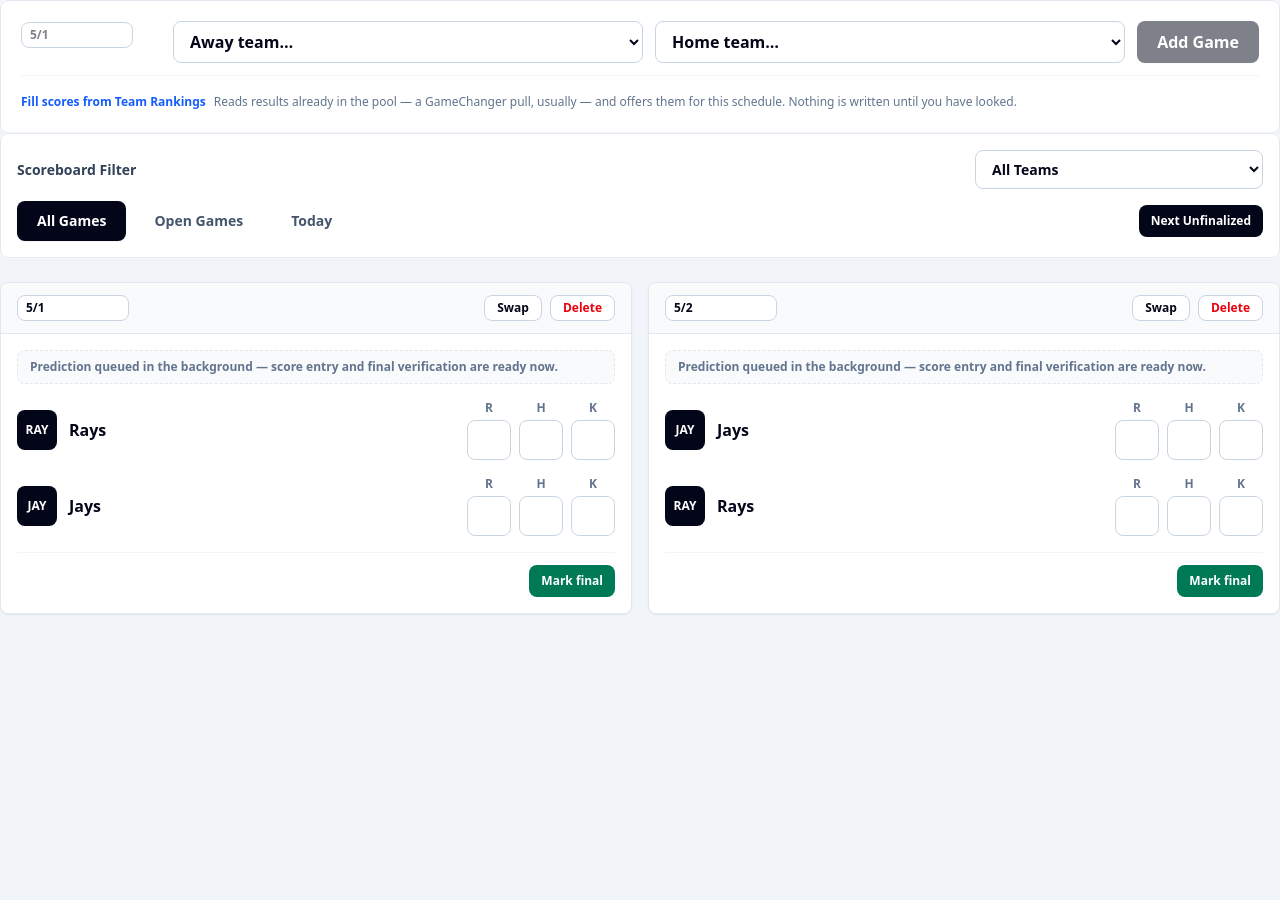
today › is the day the button is pressed, however long the page has been open
The image size is (1280, 900).
Click the button "Today".
click(312, 221)  # box [271,201,352,241]
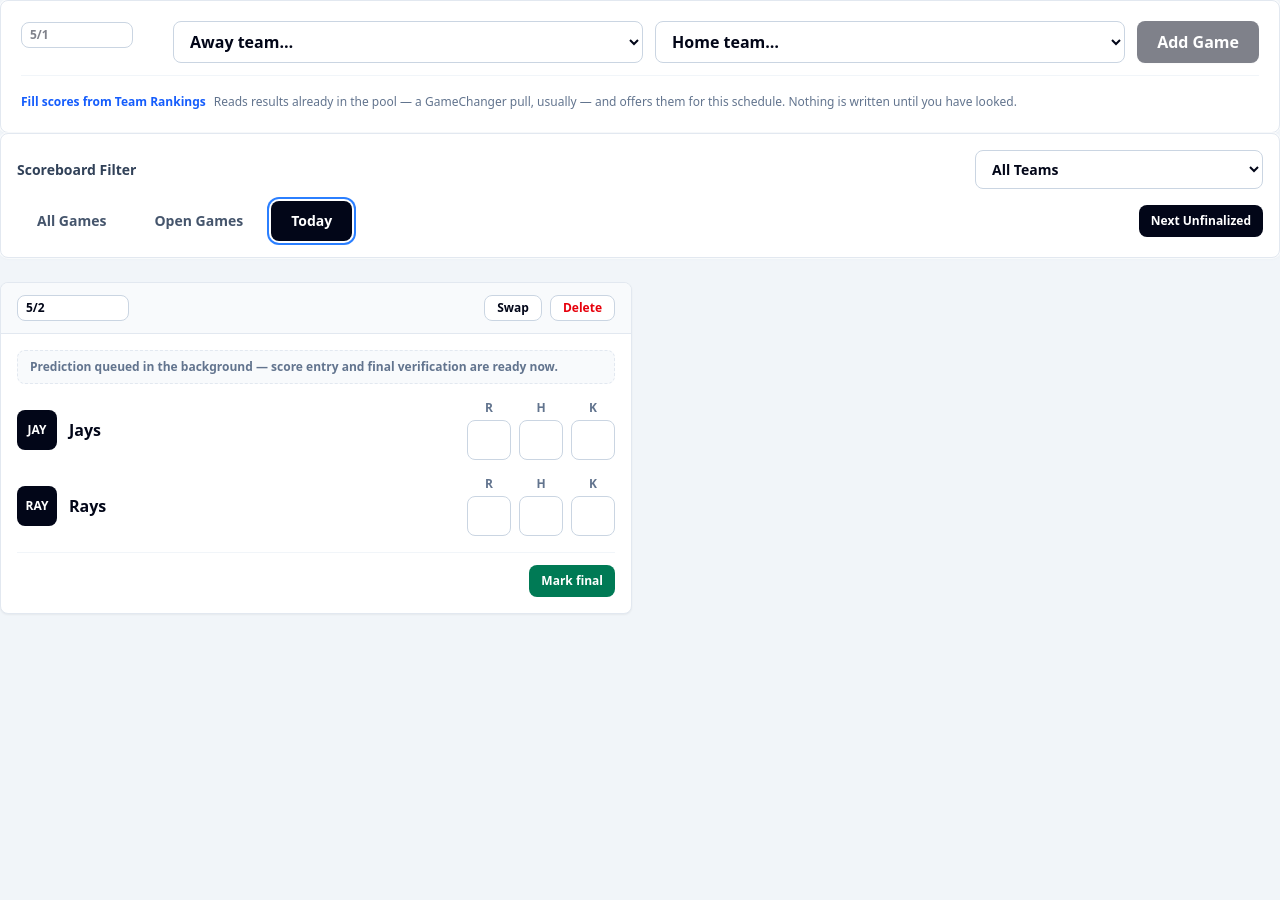
Expected: the element with id "game-card-g-second" is shown, [0,282,632,614]
Result: the element with id "game-card-g-first" is gone
